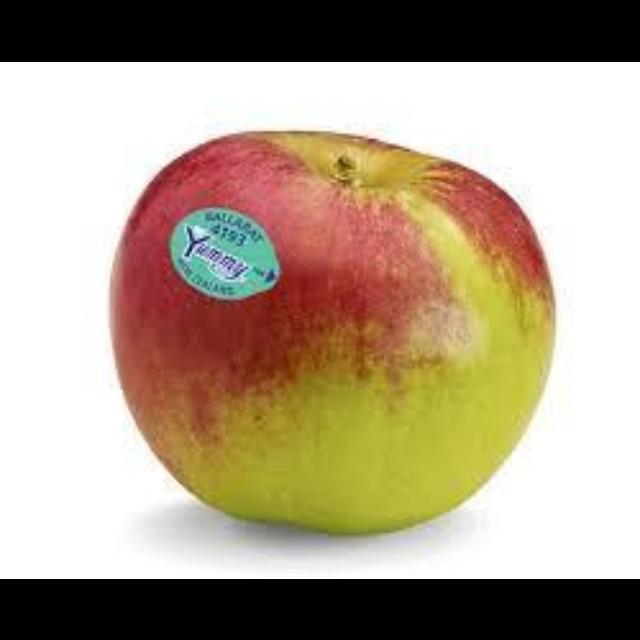apple: (110, 133, 553, 529)
